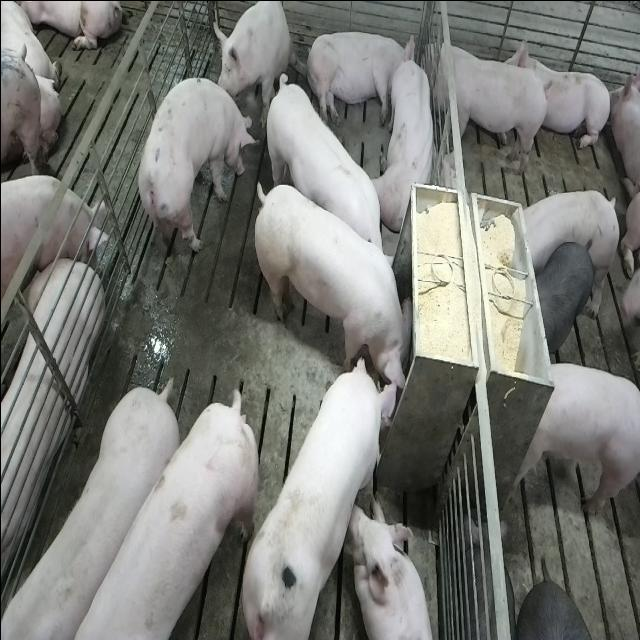Feeding: (242, 352, 408, 634), (256, 175, 418, 410)
Lateral_lying: (0, 254, 100, 616), (303, 28, 415, 127)
Sitting: (217, 2, 294, 118)
Standing: (57, 383, 255, 640), (0, 380, 176, 640), (261, 70, 394, 288), (132, 76, 252, 276), (506, 360, 638, 514), (423, 33, 551, 181), (0, 173, 106, 310), (510, 186, 618, 278), (532, 237, 594, 355)
Sternal_lying: (509, 33, 611, 154), (351, 498, 436, 640), (376, 45, 438, 232)
